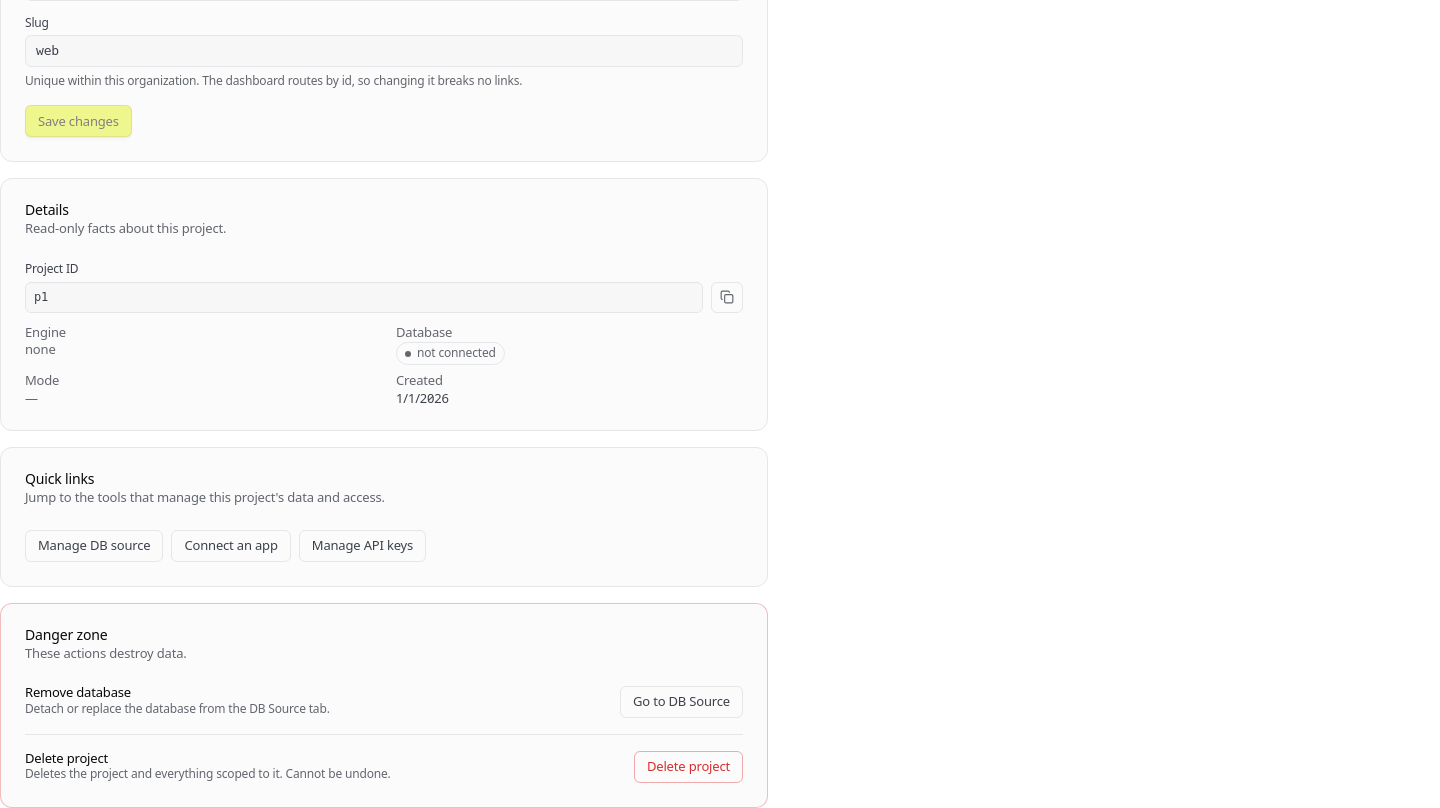
ProjectSettingsPanel › enumerates what will be destroyed
This screenshot has width=1440, height=808.
(page scrolled)
Click the button "Delete project".
click(688, 767)  # box [634, 751, 743, 783]
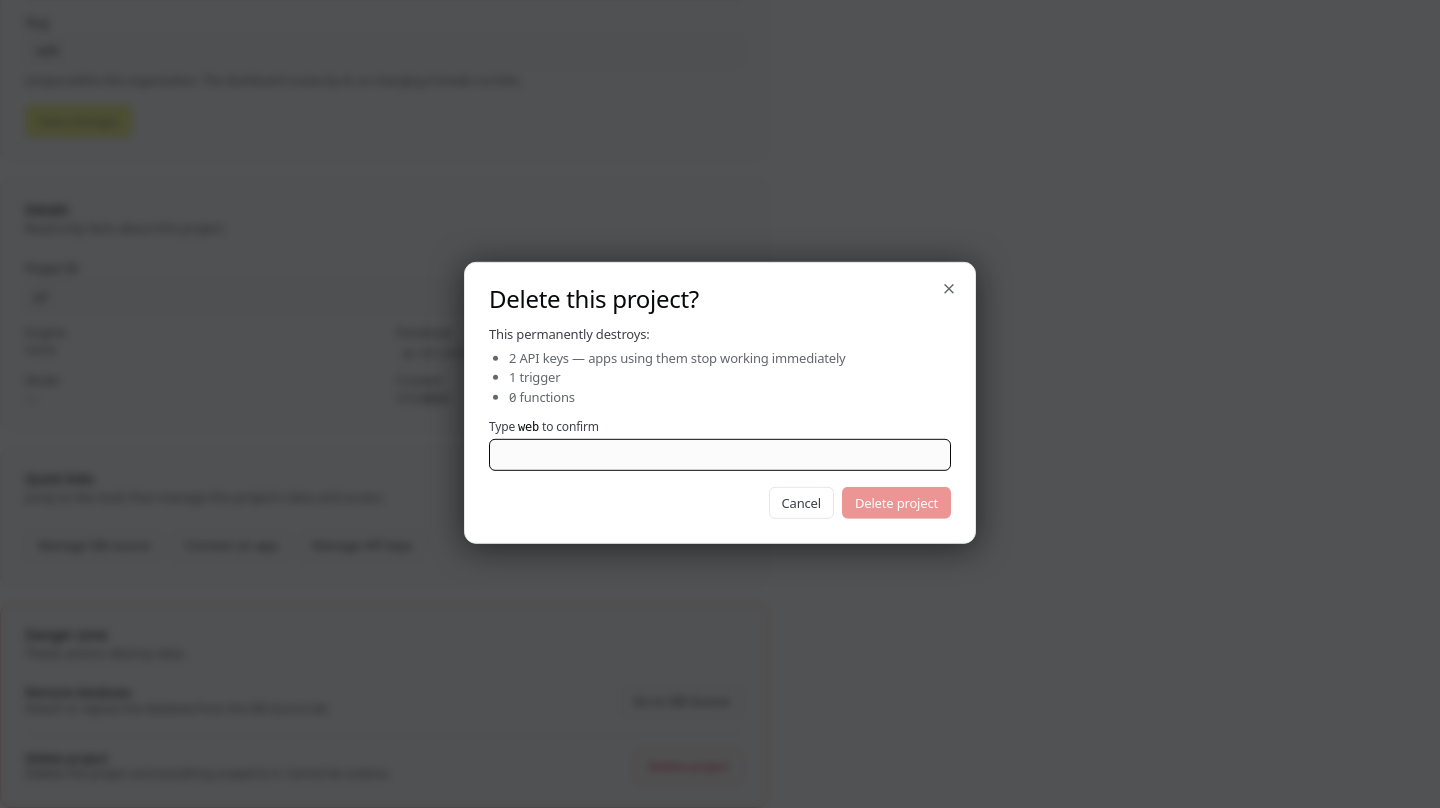
Result: the list item "2 API keys — apps using them stop working immediately" is shown at [509, 348, 846, 366]
Result: the list item "1 trigger" is shown at [509, 368, 560, 386]
Result: the list item "0 functions" is shown at [509, 388, 575, 406]
